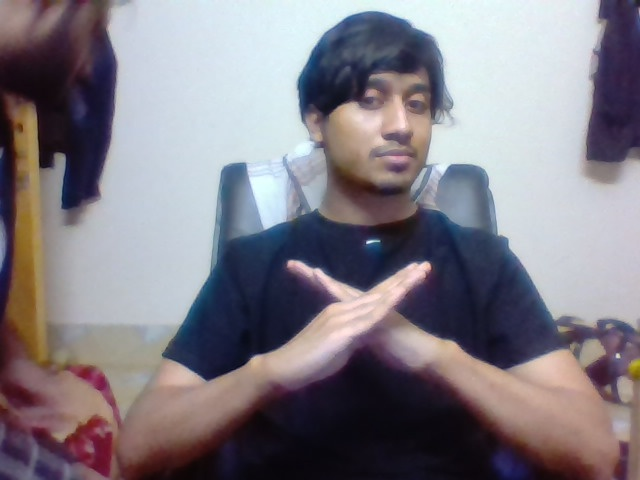X: (269, 246, 473, 389)
